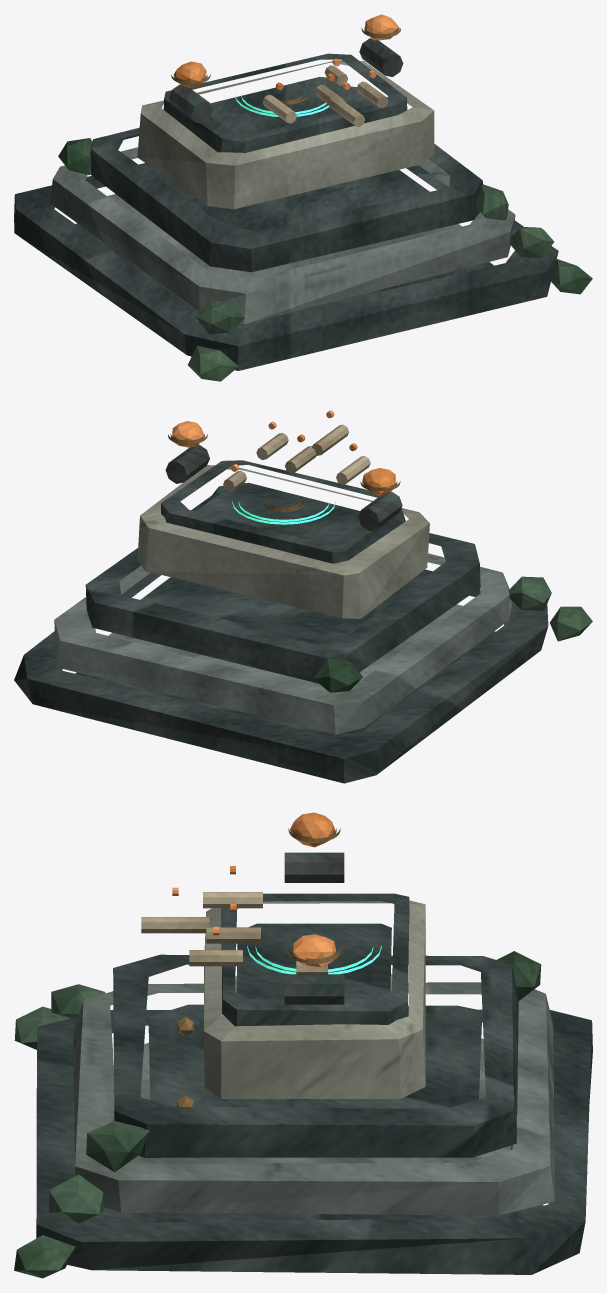
The model's file is 0465_altar_15.glb.
The picture shows the model from 3 angles, top to bottom: view 1: azimuth 30°, elevation 25°; view 2: azimuth 150°, elevation 25°; view 3: azimuth 270°, elevation 25°; orthographic projection. The views are drawn at different scales.
Visible parts, largest first — view 1: stone_dark, stone, stone_light, moss, iron, bone, amber, brass; view 2: stone_dark, stone, stone_light, moss, bone, iron, amber, brass, glow; view 3: stone_dark, stone, stone_light, moss, bone, iron, amber, brass, glow.
Part boxes in pixels (x1,y1,x2,y2): stone_dark: (14,53,558,370); stone: (50,147,515,324); stone_light: (137,60,434,209); moss: (58,138,592,381); iron: (169,38,403,123); bone: (262,65,388,126); amber: (173,14,399,90); brass: (171,27,400,104); stone_dark: (14,460,548,783); stone: (54,553,512,734); stone_light: (137,465,429,618); moss: (212,485,592,692); bone: (223,424,370,491); iron: (165,444,402,530); amber: (172,410,395,496); brass: (168,434,400,511); glow: (232,501,335,524); stone_dark: (36,893,592,1274); stone: (73,982,554,1215); stone_light: (204,900,425,1098); moss: (14,951,541,1278); bone: (141,892,327,974); iron: (284,852,344,1004); amber: (172,812,335,967); brass: (177,828,342,1106); glow: (247,945,381,974).
Size of the model in its own units: 2.39 by 1.27 by 2.33.
9 materials, 9 textured.
